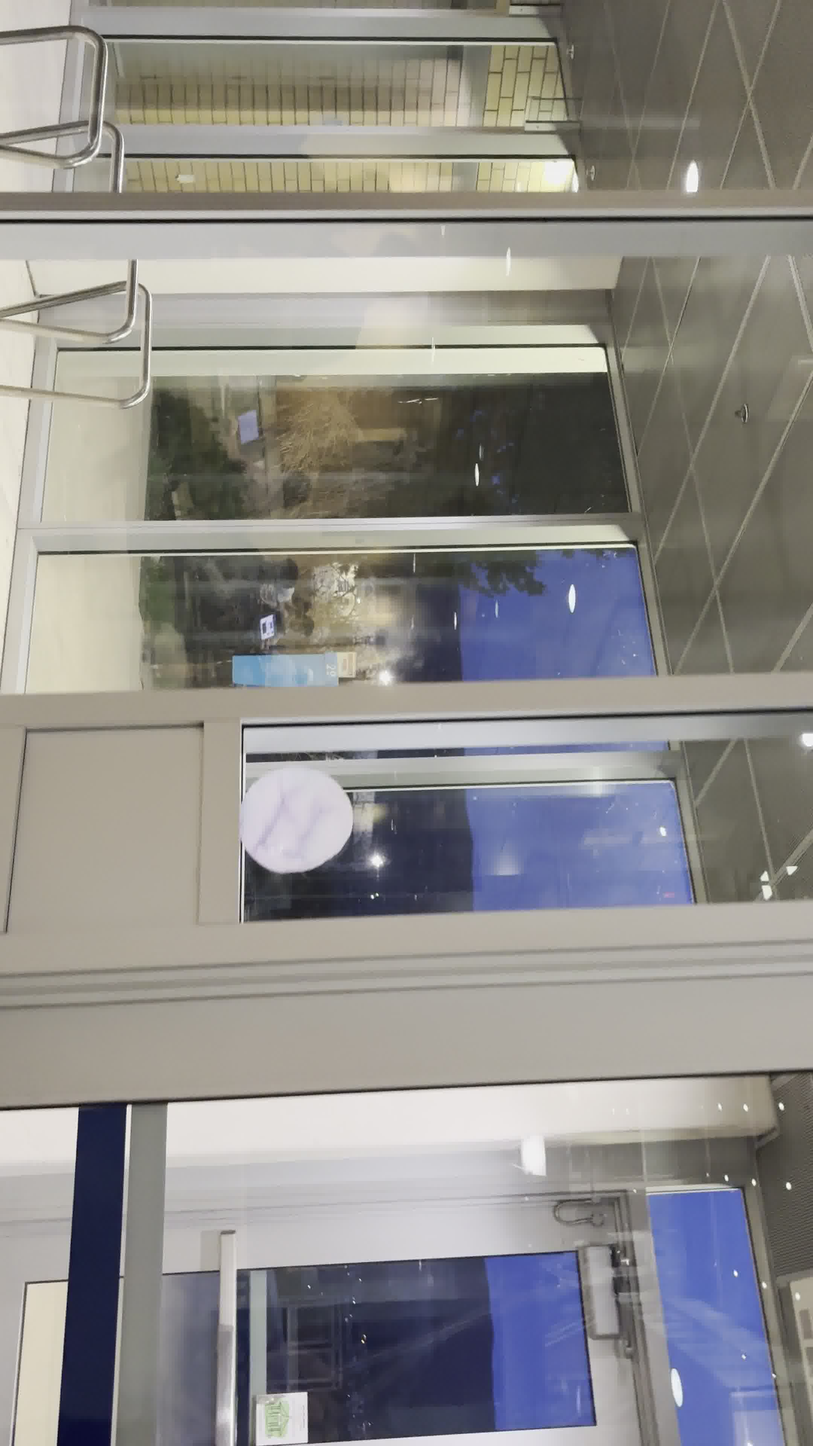Target: (238, 765, 356, 875)
